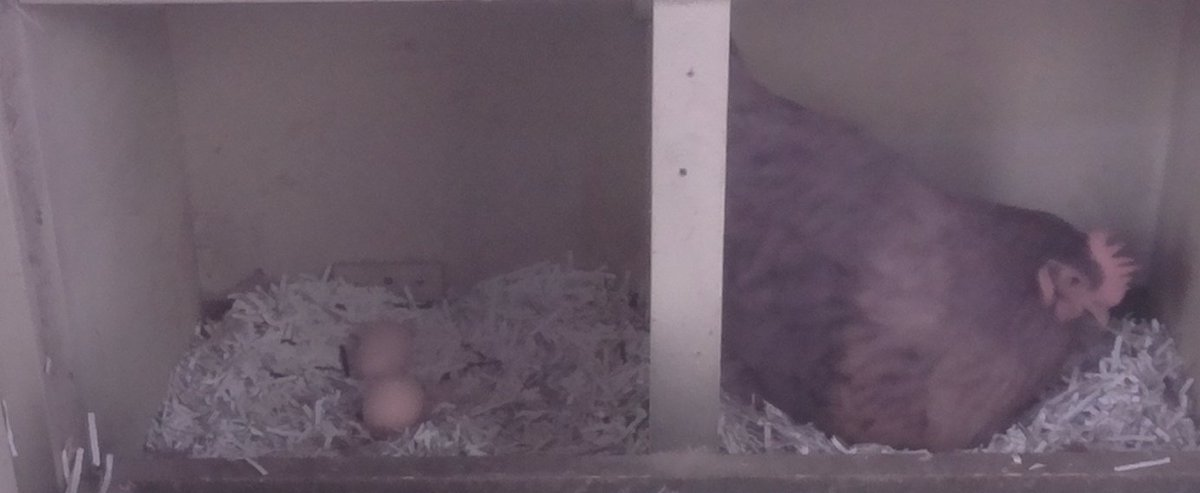egg: (357, 369, 430, 438), (350, 314, 420, 382)
hen: (728, 65, 1147, 450)
